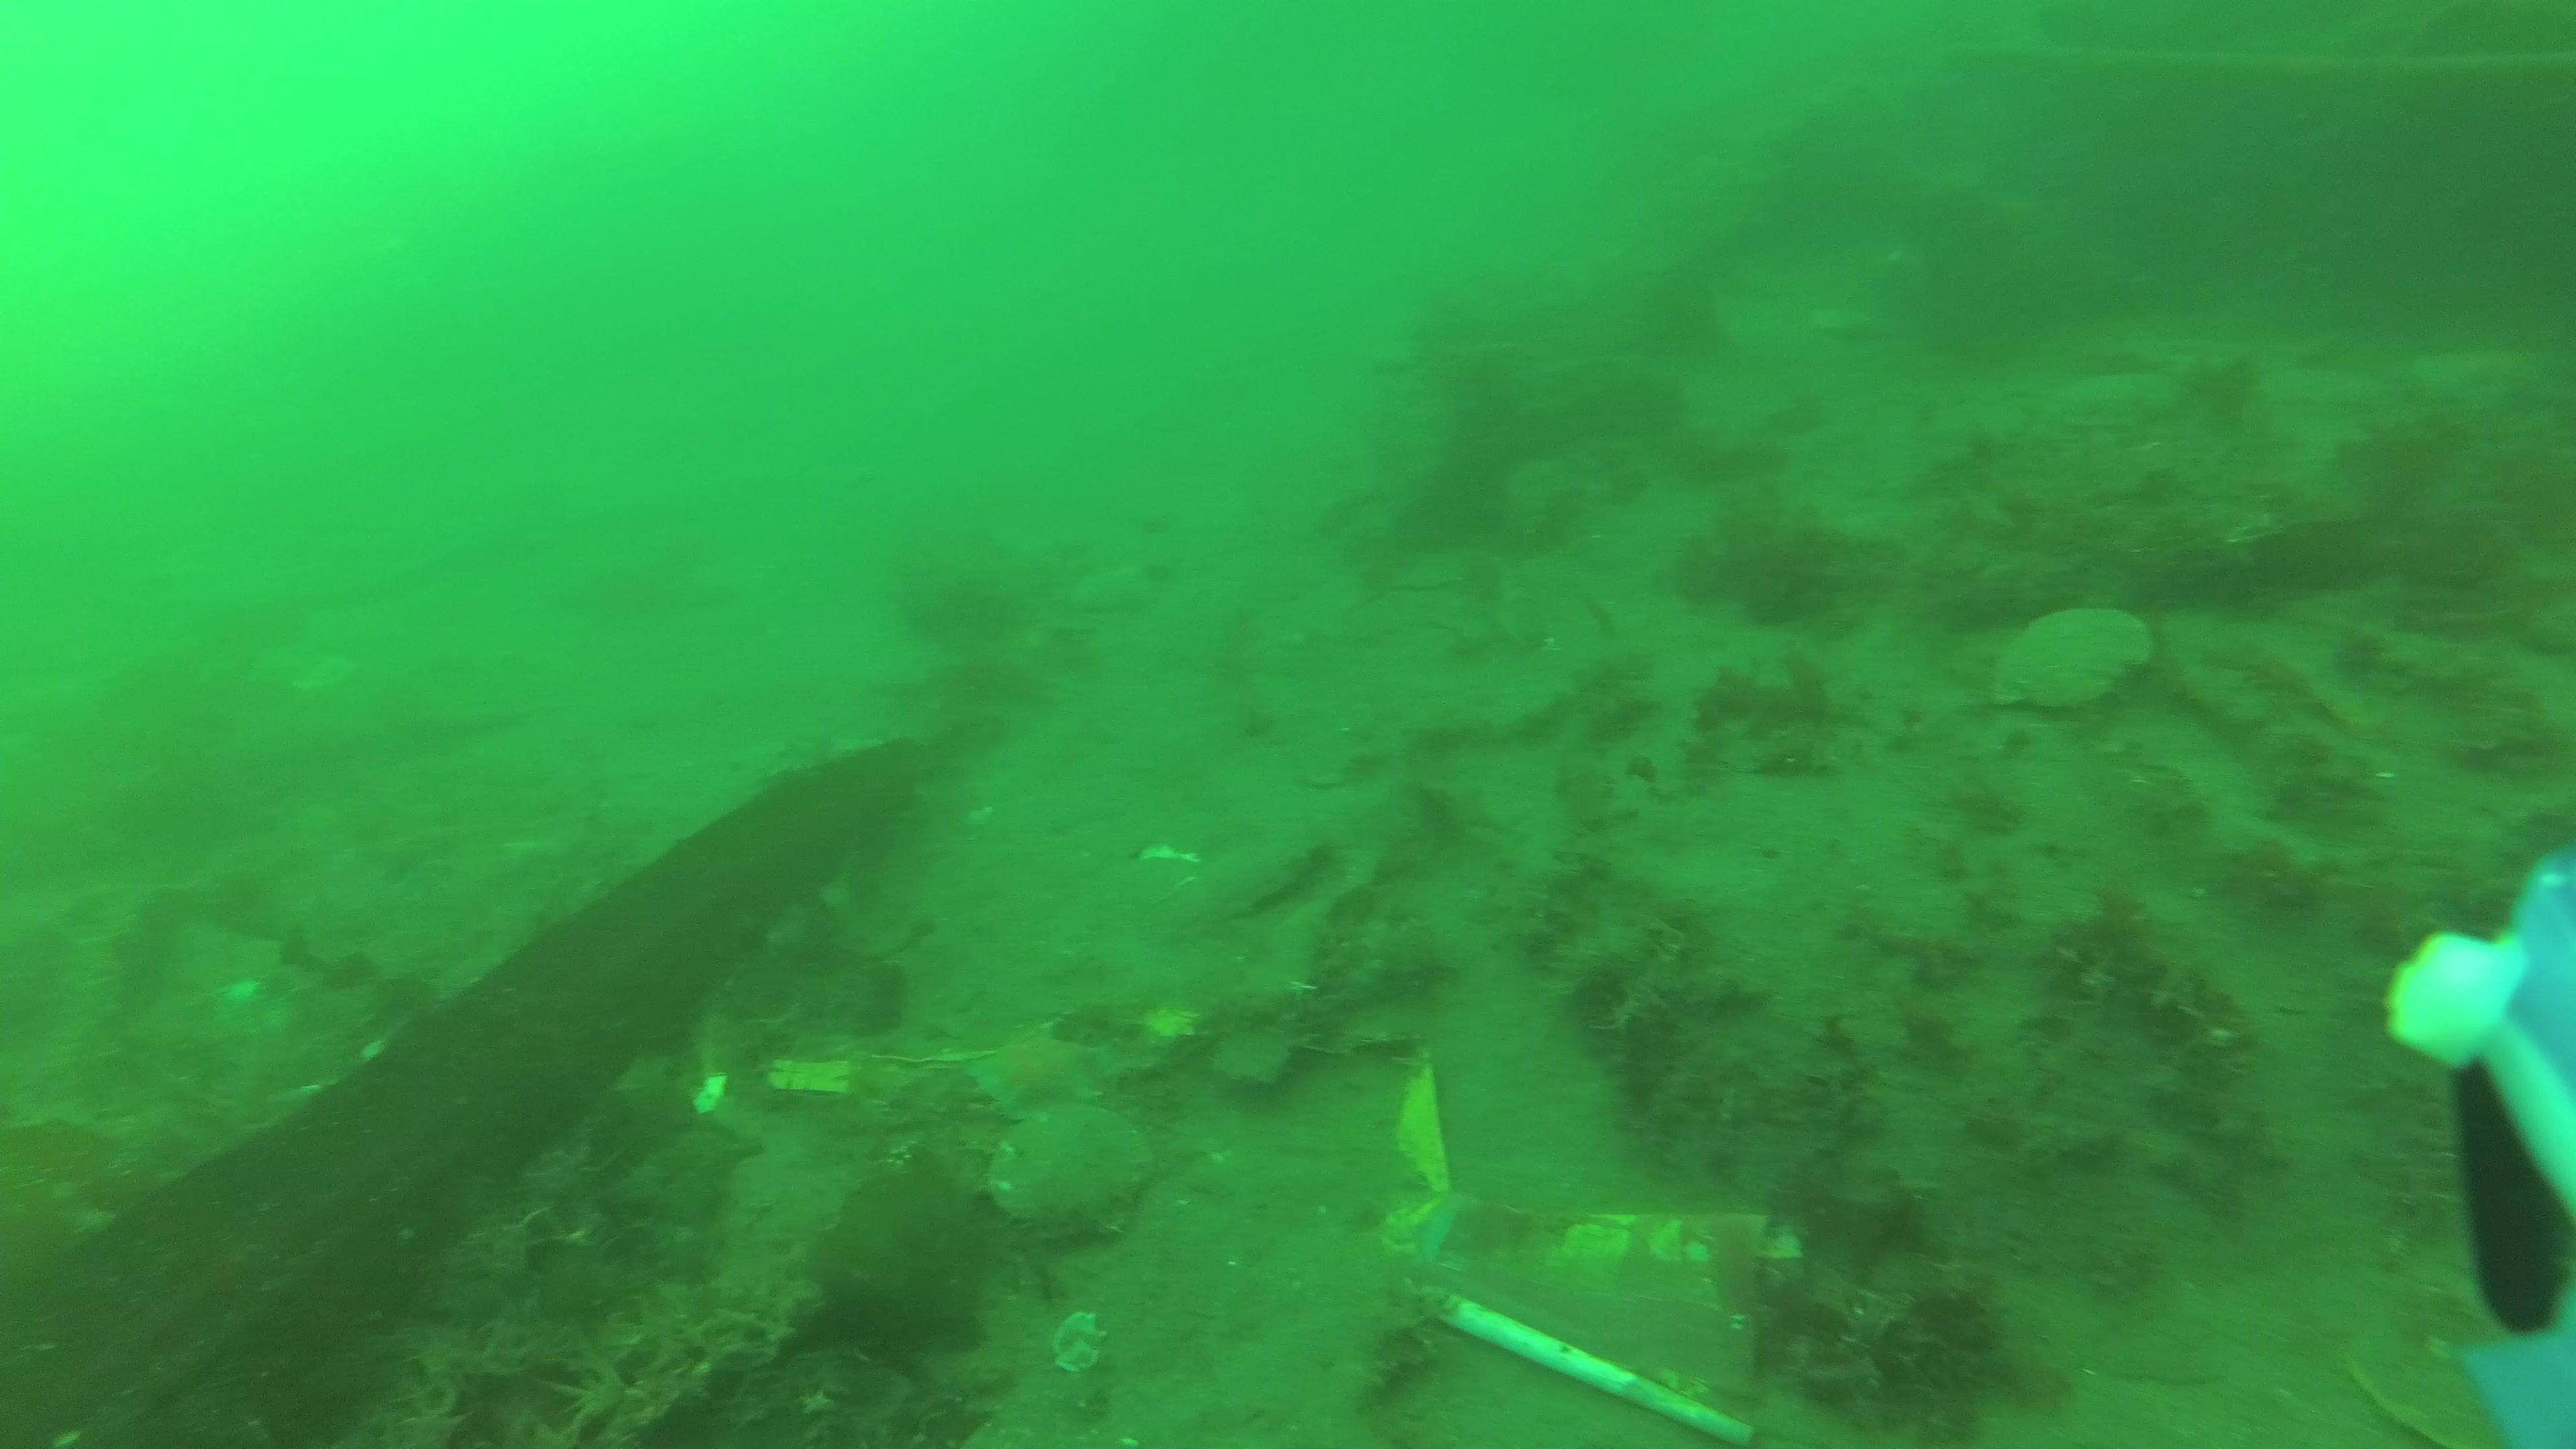scallop: (982, 1109, 1155, 1226), (1987, 610, 2153, 709)
starfish: (959, 1031, 1109, 1116)
